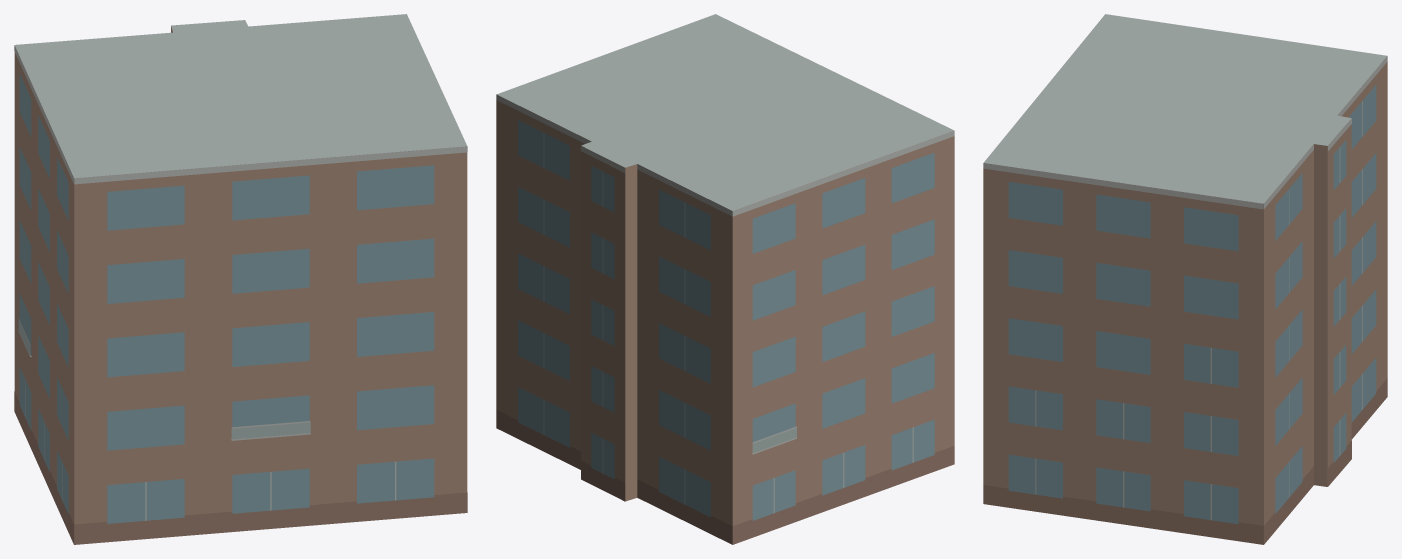
File: survey-upis-32909933.glb
3 views of the same model, side by side, from view 1: azimuth 30°, elevation 25°; view 2: azimuth 150°, elevation 25°; view 3: azimuth 270°, elevation 25° (orthographic). The views are drawn at different scales.
Visible parts, largest first — view 1: survey-upis-32909933.tmp; view 2: survey-upis-32909933.tmp; view 3: survey-upis-32909933.tmp.
Boxes of the visible parts, x1=… form: survey-upis-32909933.tmp: x1=14, y1=14, x2=467, y2=544; survey-upis-32909933.tmp: x1=496, y1=14, x2=954, y2=544; survey-upis-32909933.tmp: x1=983, y1=14, x2=1387, y2=544.
Bounding box in the file's own units: 17.43 × 14.6 × 15.69.
